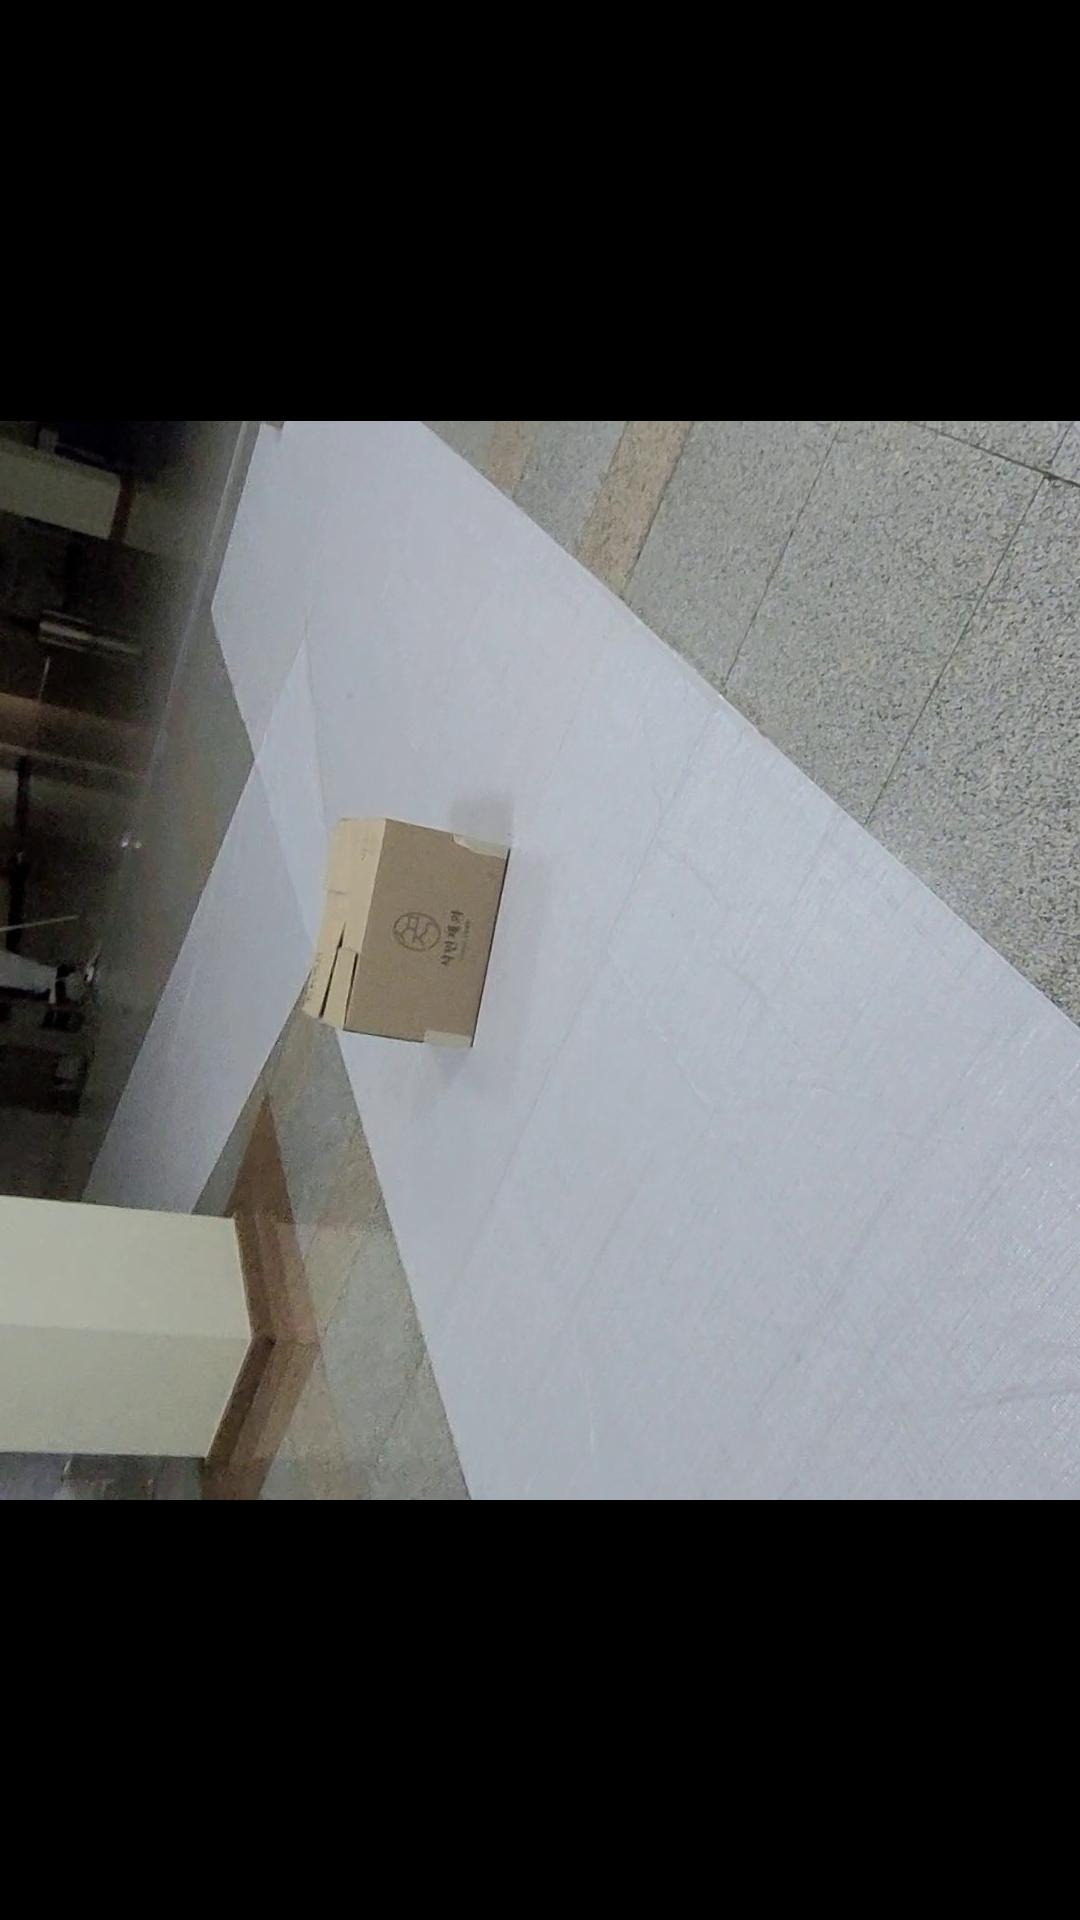Box: (268, 773, 520, 1084)
